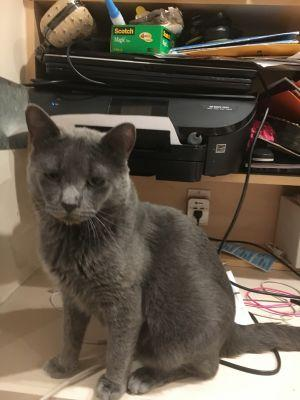rblue: (19, 99, 145, 236)
